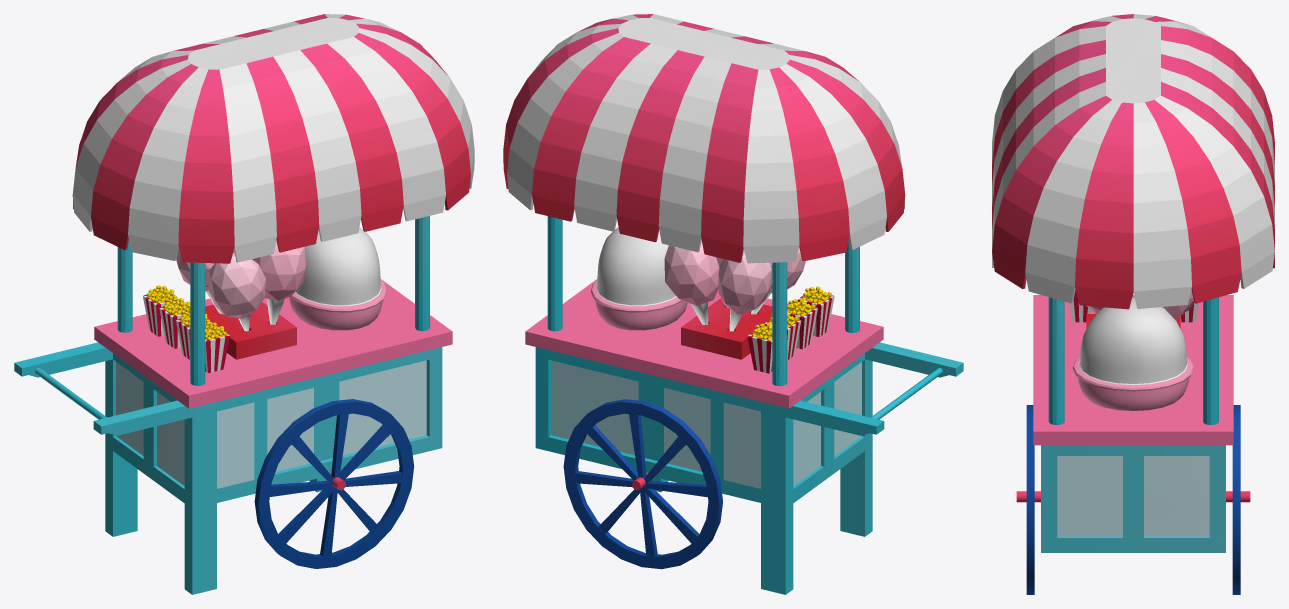
The model's file is food cart.fbx.
The picture shows the model from 3 angles, left to right: view 1: azimuth 30°, elevation 25°; view 2: azimuth 150°, elevation 25°; view 3: azimuth 270°, elevation 25°; orthographic projection. The views are drawn at different scales.
Visible parts, largest first — view 1: awning, cart, wheel.001, candybowl, cotton candy, cotton candy.002, pole4, pole3, pole1, popcornbox3.003; view 2: awning, cart, wheel.002, candybowl, cotton candy.003, cotton candy.001, pole1, pole2, pole4, popcornbox3, popcornbox3.003; view 3: awning, cart, candybowl, pole3, pole2, wheel.001, wheel.002, axle, popcornbox3.003.
Part boxes in pixels (x1=…): awning: x1=72, y1=14, x2=474, y2=263; cart: x1=14, y1=279, x2=452, y2=594; wheel.001: x1=254, y1=399, x2=414, y2=568; candybowl: x1=289, y1=227, x2=386, y2=330; cotton candy: x1=208, y1=253, x2=265, y2=331; cotton candy.002: x1=252, y1=240, x2=306, y2=324; pole4: x1=190, y1=262, x2=205, y2=385; pole3: x1=415, y1=216, x2=429, y2=331; pole1: x1=117, y1=240, x2=132, y2=332; popcornbox3.003: x1=205, y1=334, x2=229, y2=373; awning: x1=503, y1=14, x2=905, y2=263; cart: x1=525, y1=279, x2=963, y2=594; wheel.002: x1=563, y1=399, x2=722, y2=569; candybowl: x1=591, y1=227, x2=687, y2=330; cotton candy.003: x1=664, y1=240, x2=719, y2=324; cotton candy.001: x1=718, y1=249, x2=772, y2=331; pole1: x1=772, y1=262, x2=787, y2=386; pole2: x1=547, y1=216, x2=562, y2=331; pole4: x1=845, y1=240, x2=859, y2=332; popcornbox3: x1=747, y1=332, x2=772, y2=373; popcornbox3.003: x1=797, y1=295, x2=834, y2=336; awning: x1=992, y1=14, x2=1274, y2=309; cart: x1=1033, y1=295, x2=1233, y2=552; candybowl: x1=1072, y1=297, x2=1194, y2=410; pole3: x1=1048, y1=297, x2=1064, y2=425; pole2: x1=1203, y1=297, x2=1218, y2=424; wheel.001: x1=1026, y1=405, x2=1034, y2=594; wheel.002: x1=1232, y1=405, x2=1240, y2=594; axle: x1=1016, y1=491, x2=1250, y2=502; popcornbox3.003: x1=1069, y1=290, x2=1091, y2=322.
Bounding box in the file's own units: 3.06 × 3.59 × 1.77.
